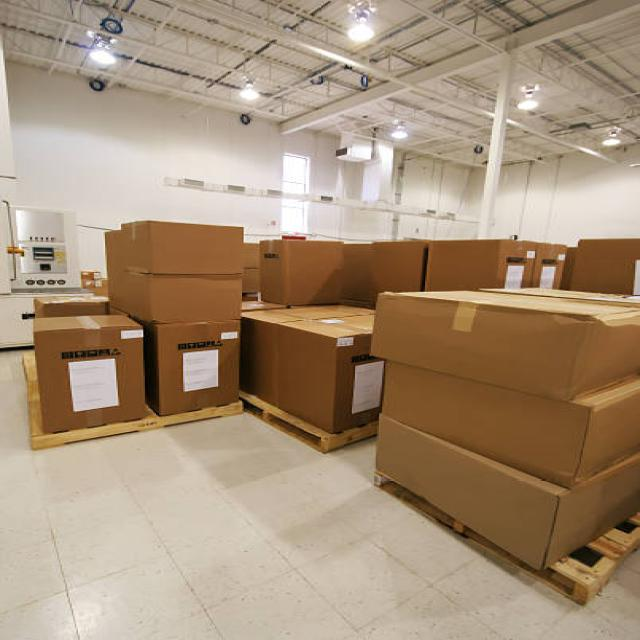Wooden-Pallets: (32, 394, 250, 456), (225, 388, 350, 462)
